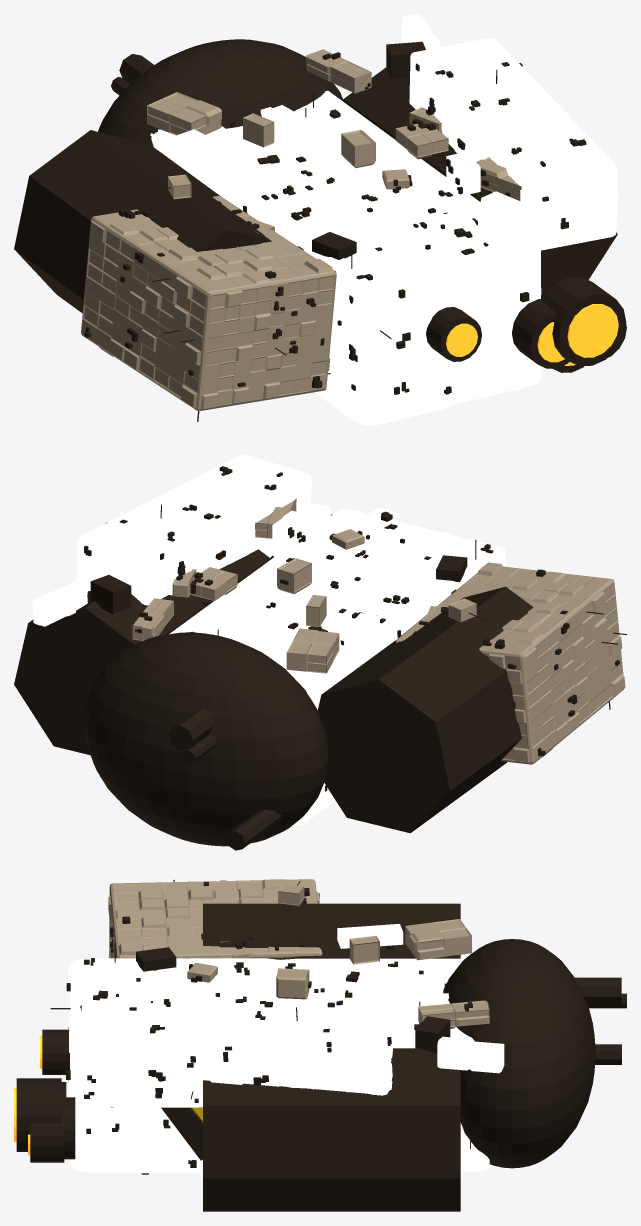
Rendered from raxxan_huge.glb.
The picture shows the model from 3 angles, top to bottom: view 1: azimuth 30°, elevation 25°; view 2: azimuth 150°, elevation 25°; view 3: azimuth 270°, elevation 25°; orthographic projection. The views are drawn at different scales.
Parts seen in each view (by area): view 1: raxxan_huge; view 2: raxxan_huge; view 3: raxxan_huge.
Boxes of the visible parts, bbox=[...] form: raxxan_huge: bbox=[14, 14, 626, 425]; raxxan_huge: bbox=[14, 454, 626, 850]; raxxan_huge: bbox=[14, 879, 626, 1211].
Bounding box in the file's own units: 8.59 × 4 × 10.
